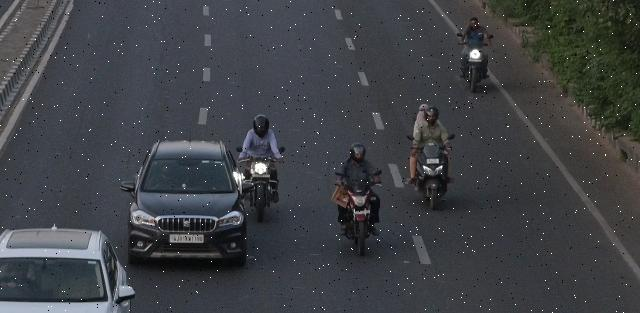With Helmet: (248, 112, 274, 134), (349, 144, 367, 166), (424, 107, 440, 128)
Without Helmet: (418, 103, 428, 120), (469, 18, 479, 30)
